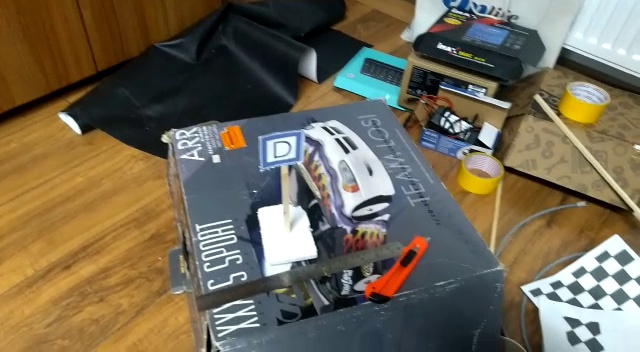durak: (253, 132, 307, 170)
